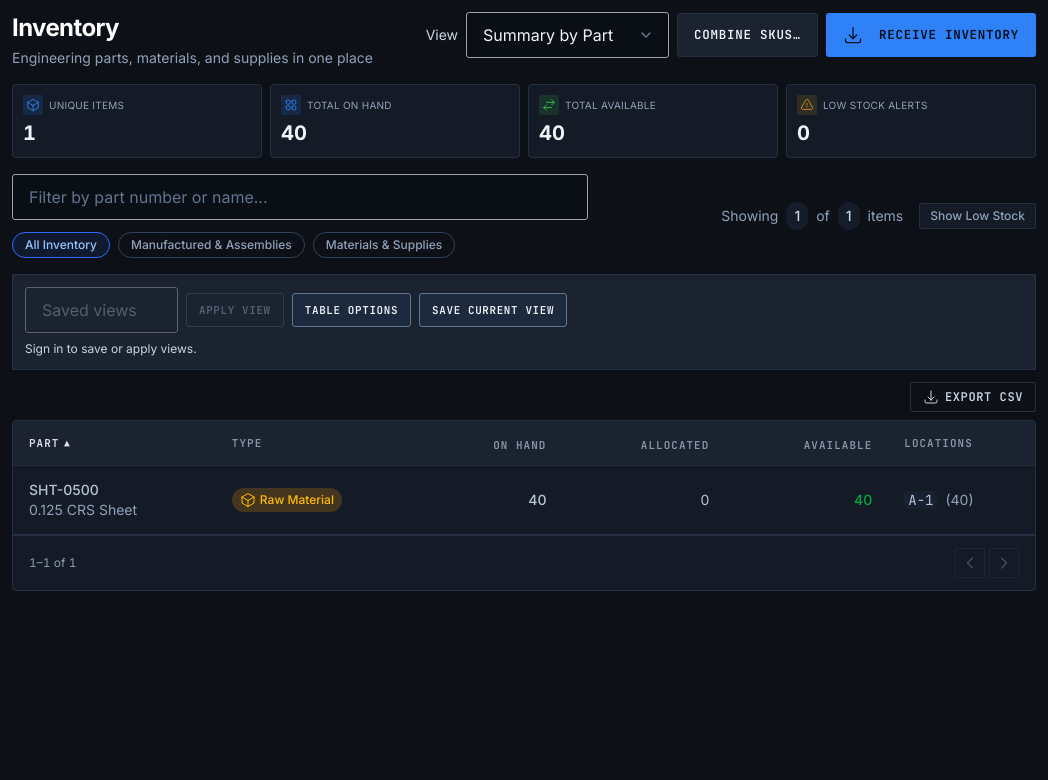
Scenario: Inventory — Stock Movements tab › hides the snapshot quick-filter bar on the movements tab
expect the field labelled "Filter by part number or name" is shown: met, box top-left (12, 174), bottom-right (588, 220)
expect the button "All Inventory" is shown: met, box top-left (12, 232), bottom-right (110, 258)
Select "Stock Movements" in the dropdown named "Inventory view" at (568, 35), box top-left (466, 12), bottom-right (669, 58)
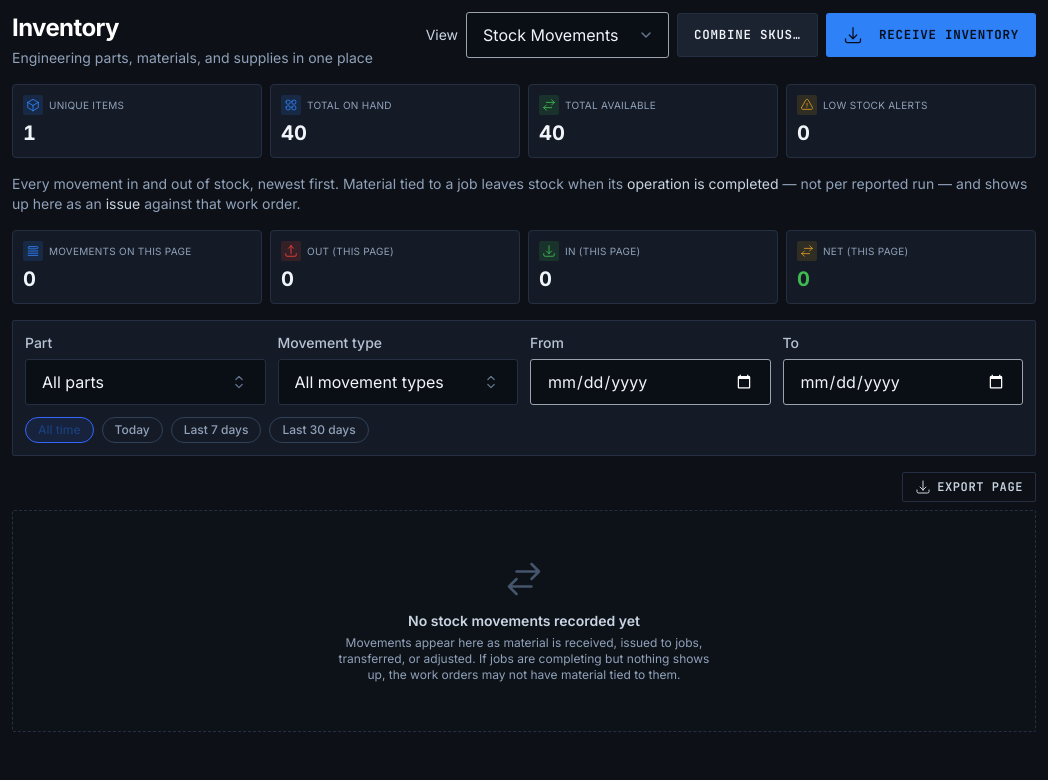
expect the field labelled "Filter by part number or name" is not shown: met
expect the button "All Inventory" is gone: met
expect the text "Movement type" is shown: met, box top-left (278, 334), bottom-right (382, 351)
